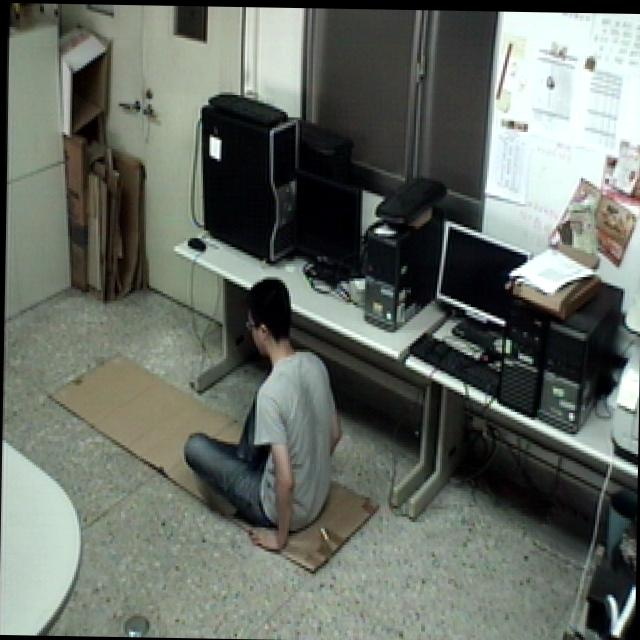sit: (179, 268, 350, 558)
